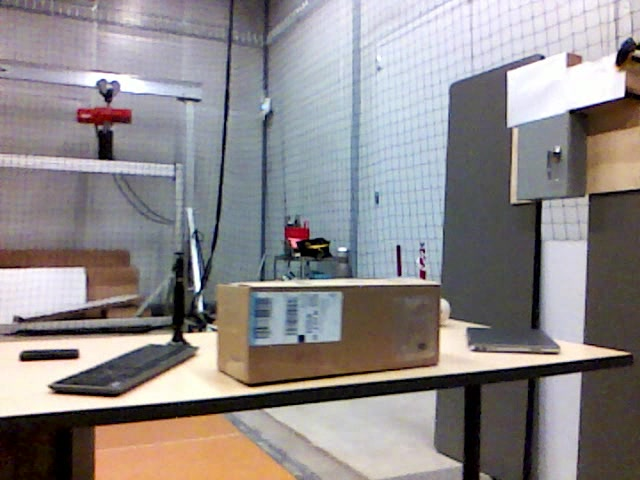box: (218, 277, 442, 383)
